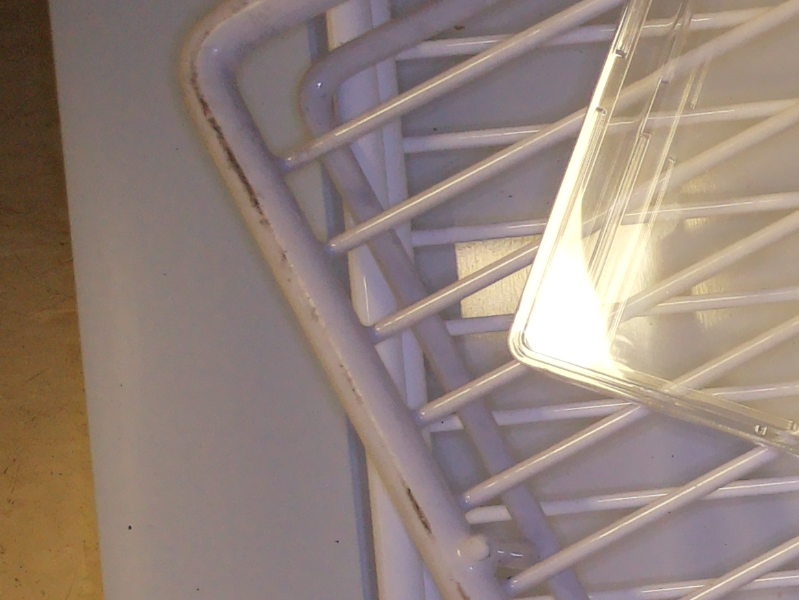plate: (503, 1, 799, 462)
